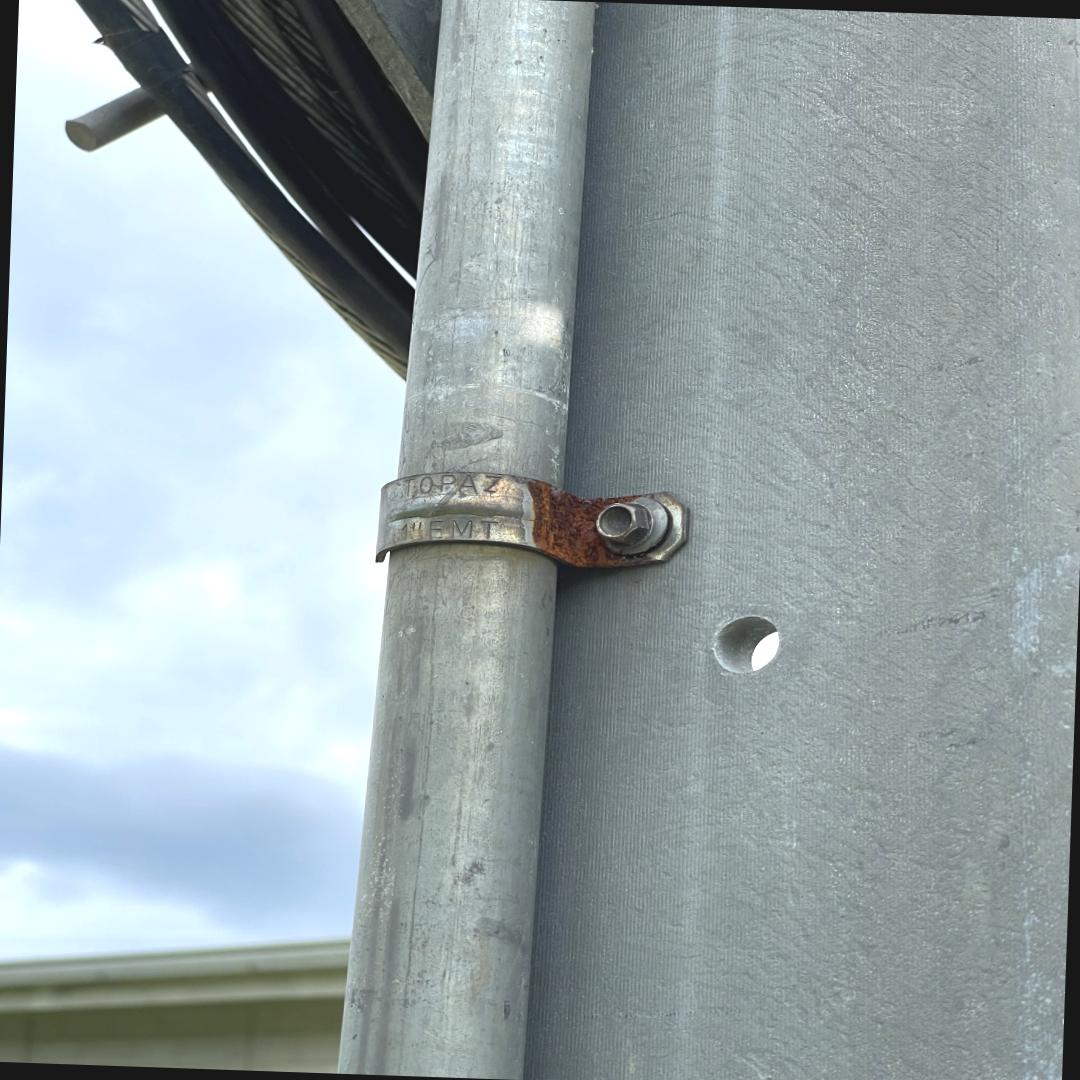Metal: (68, 0, 1080, 1080)
Metal corroido: (527, 481, 653, 568), (595, 497, 672, 555)
